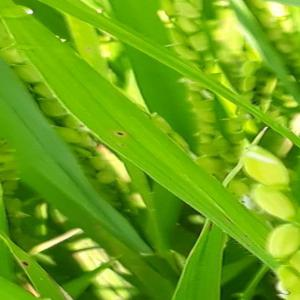Brown_Spot: (112, 129, 127, 139), (19, 258, 32, 269), (243, 232, 250, 239)
